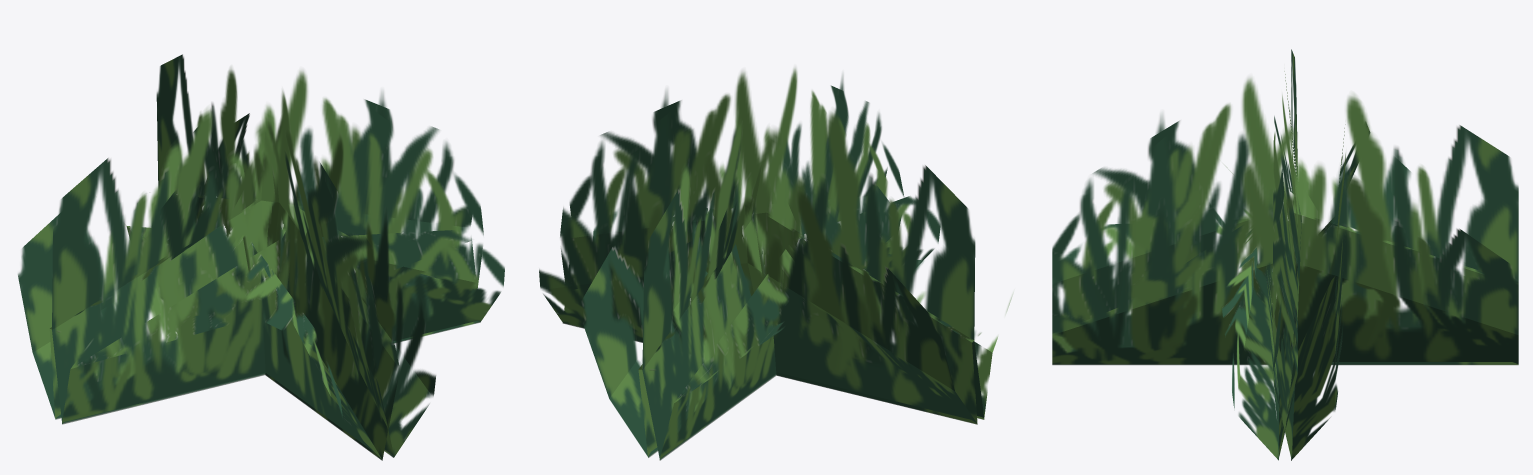
The model's file is Grass_1.glb.
3 renders of one model, left to right at view 1: azimuth 30°, elevation 25°; view 2: azimuth 150°, elevation 25°; view 3: azimuth 270°, elevation 25°, orthographic. The views are drawn at different scales.
Visible parts, largest first — view 1: Grass_1; view 2: Grass_1; view 3: Grass_1.
Part boxes in pixels (left/top/right/bottom): Grass_1: left=18, top=54, right=504, bottom=460; Grass_1: left=539, top=67, right=1013, bottom=460; Grass_1: left=1052, top=49, right=1518, bottom=460.
Size of the model in its own units: 0.6667 by 0.5454 by 0.6667.
Materials: 1 (1 with a texture image).
